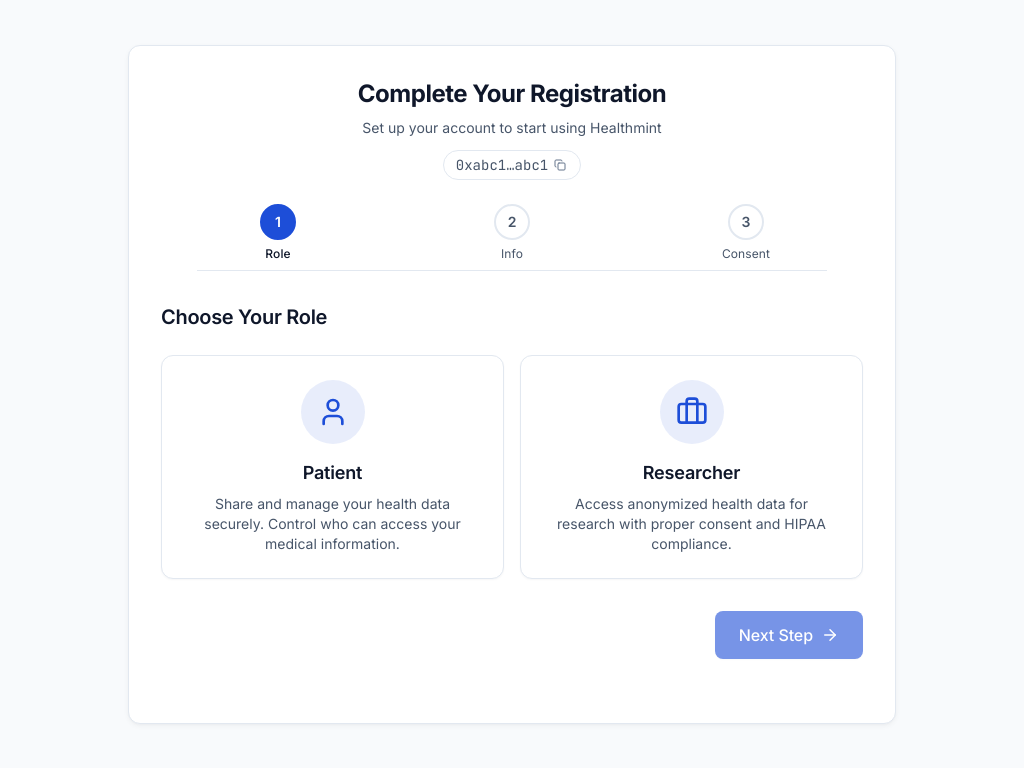
Test: UserRegistration › Step 1 — role selection › Next Step button enables after selecting a role
Click the Patient card (the h3 text is the most direct selector)
Step 1. Click the button "Patient" → (332, 466), box [161,354,504,578]
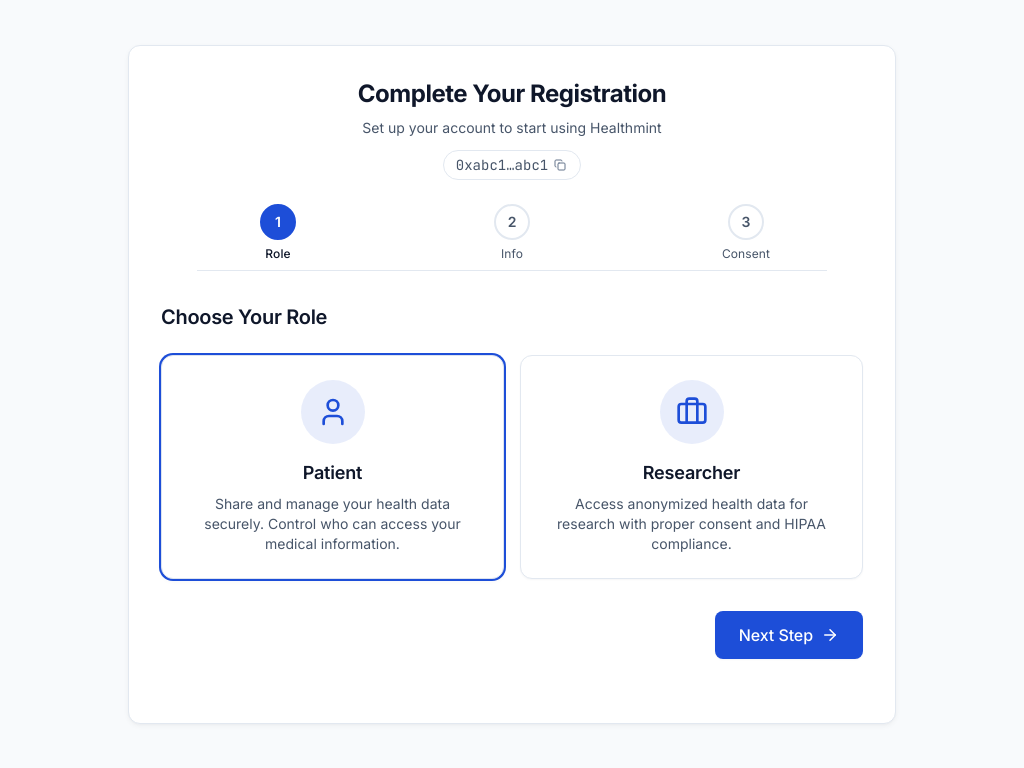
Now the button "Next Step" is enabled, box [715,610,863,658]
